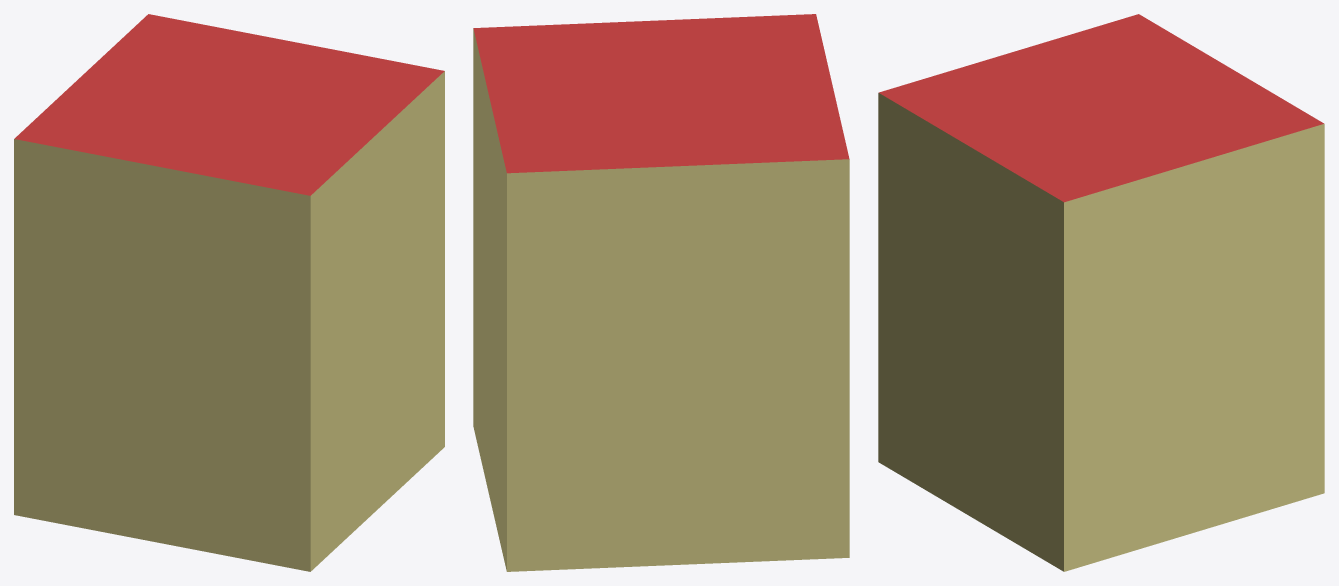
3 renders of one model, left to right at view 1: azimuth 30°, elevation 25°; view 2: azimuth 150°, elevation 25°; view 3: azimuth 270°, elevation 25°, orthographic. The views are drawn at different scales.
Size of the model in its own units: 6.22 by 6.22 by 5.69.
